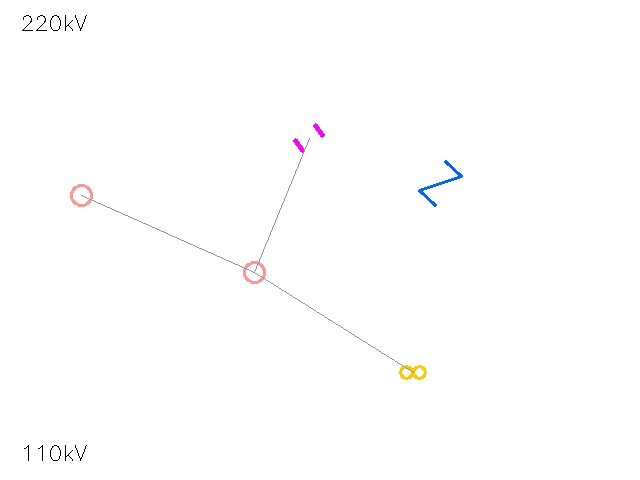capacitor: (288, 117, 330, 159)
circuit_breaker: (418, 161, 462, 205)
feeder_terminal: (60, 174, 102, 216)
surge_arrester: (233, 251, 275, 293)
transformer_2w: (397, 356, 429, 388)
